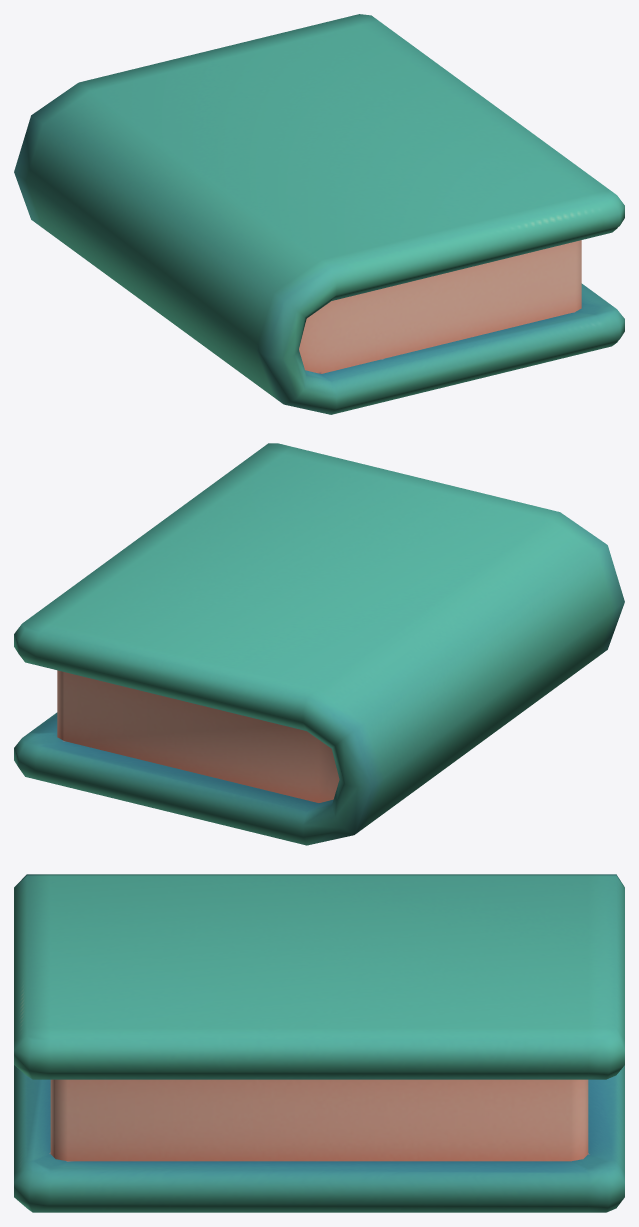
The model's file is Book.fbx.
3 renders of one model, top to bottom at view 1: azimuth 30°, elevation 25°; view 2: azimuth 150°, elevation 25°; view 3: azimuth 270°, elevation 25°, orthographic. The views are drawn at different scales.
Parts seen in each view (by area): view 1: Book; view 2: Book; view 3: Book.
Part boxes in pixels (<box>): Book: <box>14,14,624,414</box>; Book: <box>14,443,624,845</box>; Book: <box>14,874,624,1212</box>.
Bounding box in the file's own units: 25.05 × 9.82 × 31.61.
1 material, 1 textured.
